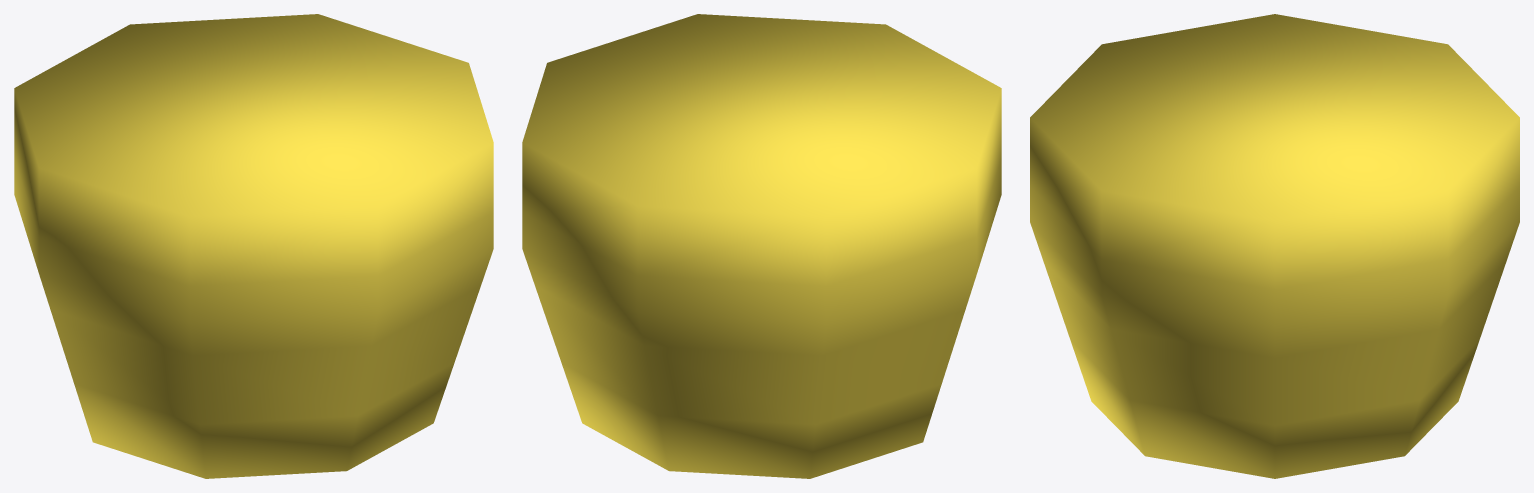
Rendered from lemonade 3.glb.
3 renders of one model, left to right at view 1: azimuth 30°, elevation 25°; view 2: azimuth 150°, elevation 25°; view 3: azimuth 270°, elevation 25°, orthographic.
Parts seen in each view (by area): view 1: Cylinder.003; view 2: Cylinder.003; view 3: Cylinder.003.
Boxes of the visible parts, box(x1,y1,x2,y2) form: Cylinder.003: box(14, 14, 493, 478); Cylinder.003: box(522, 14, 1001, 478); Cylinder.003: box(1030, 14, 1519, 478).
Size of the model in its own units: 1.94 by 1.24 by 1.94.
